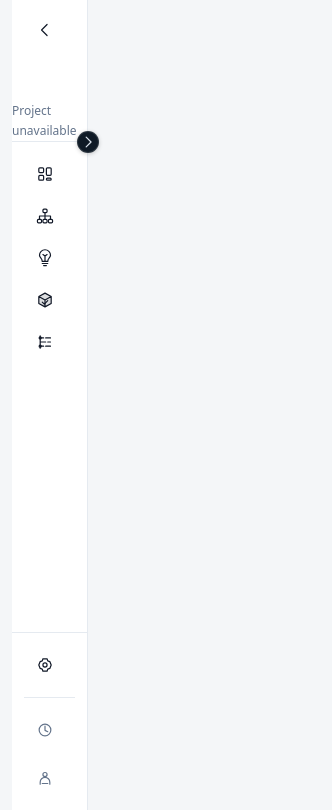
Test case: V4 H2 shell contracts › D: opening another group replaces the previous flyout
What coordinates should you click on to do the following:
click the button named "Coordination"
I would click on:
 (50, 216)
Its box is left=24, top=196, right=75, bottom=236.
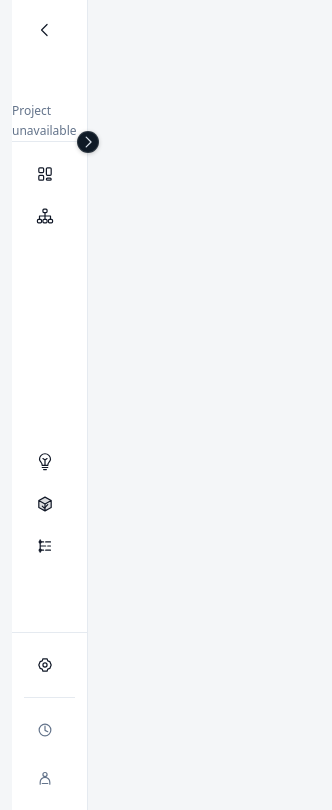
What coordinates should you click on to do the following:
click the button named "Technical Workspace"
I would click on:
 (50, 462)
Its box is left=24, top=442, right=75, bottom=482.
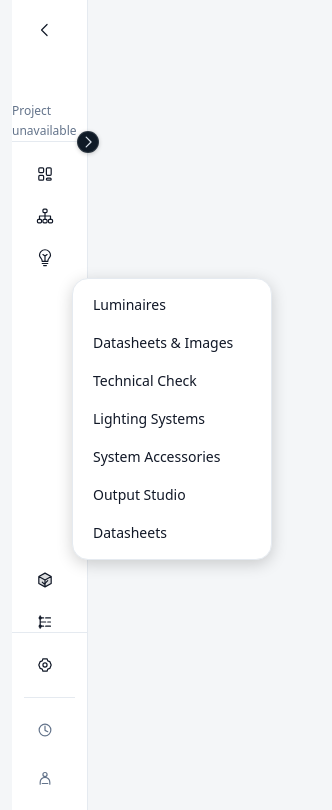
Expected: the menu item "Luminaires" is shown, left=81, top=287, right=263, bottom=323
